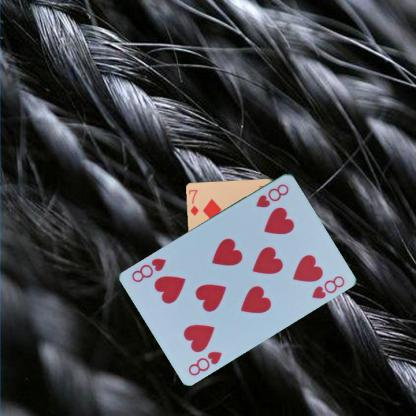7d: (187, 187, 200, 217)
8h: (186, 348, 223, 377), (253, 181, 291, 208)
